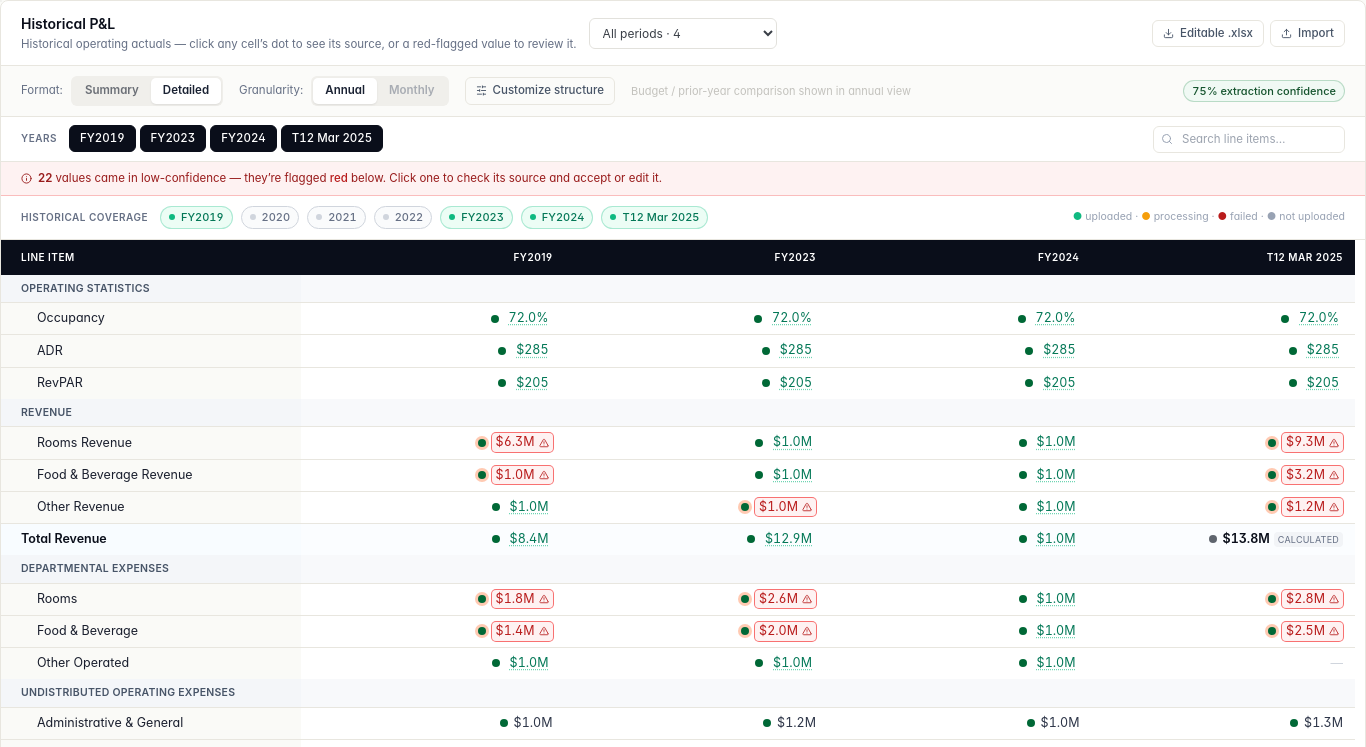
Scenario: Historicals — reordering a sourced row keeps its lineage › Reset layout restores the canonical order and drops the added line
Click the button "Customize structure".
click(540, 91)  # box [465, 77, 615, 105]
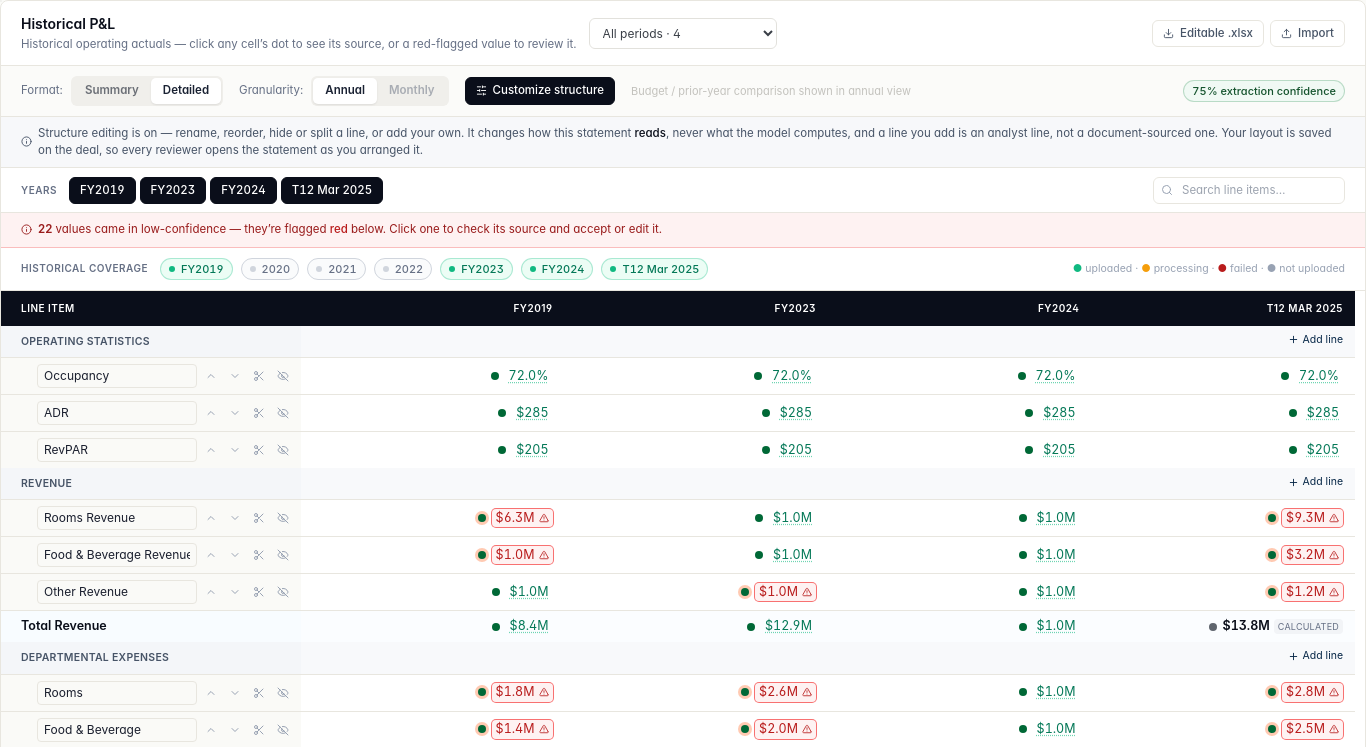
Click the 1st button named "Move down".
click(235, 376)  # box [225, 366, 245, 386]
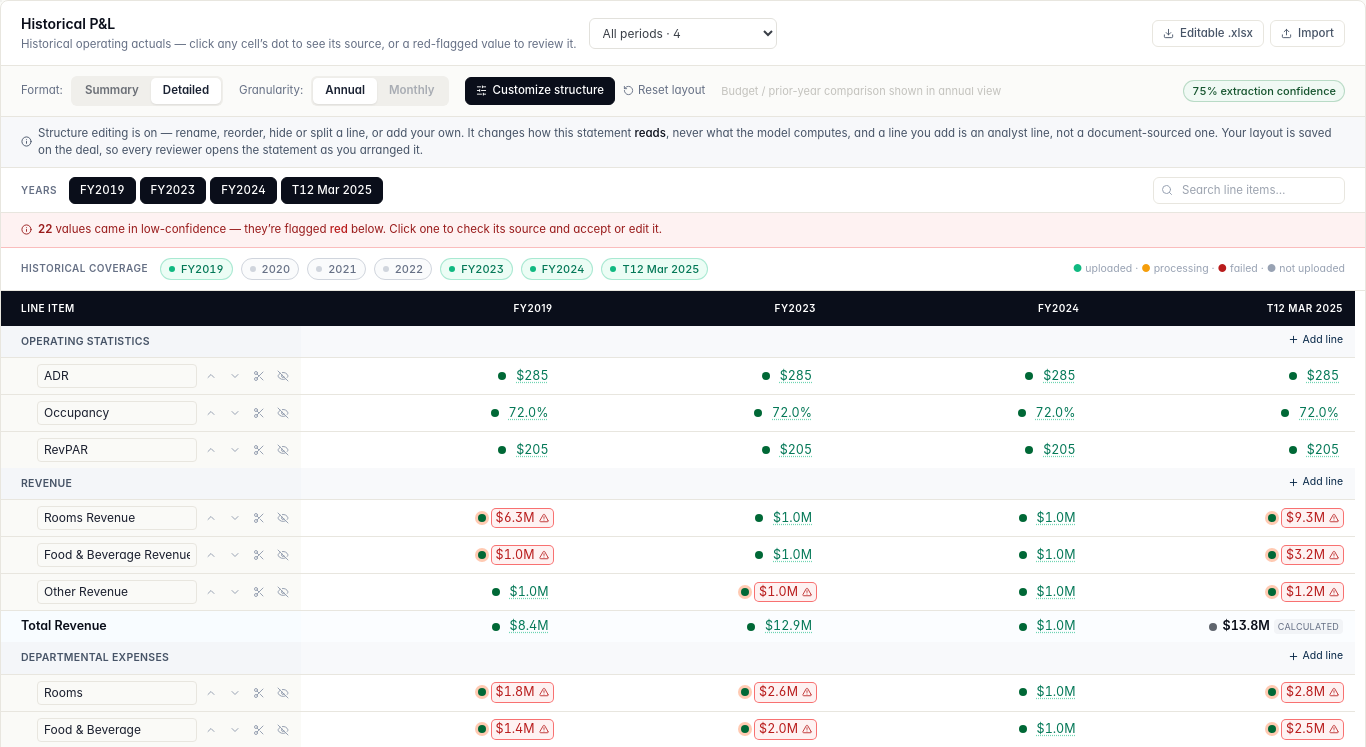
Click the button "Add line" in the row of "Operating Statistics".
click(1315, 340)  # box [1288, 332, 1343, 348]
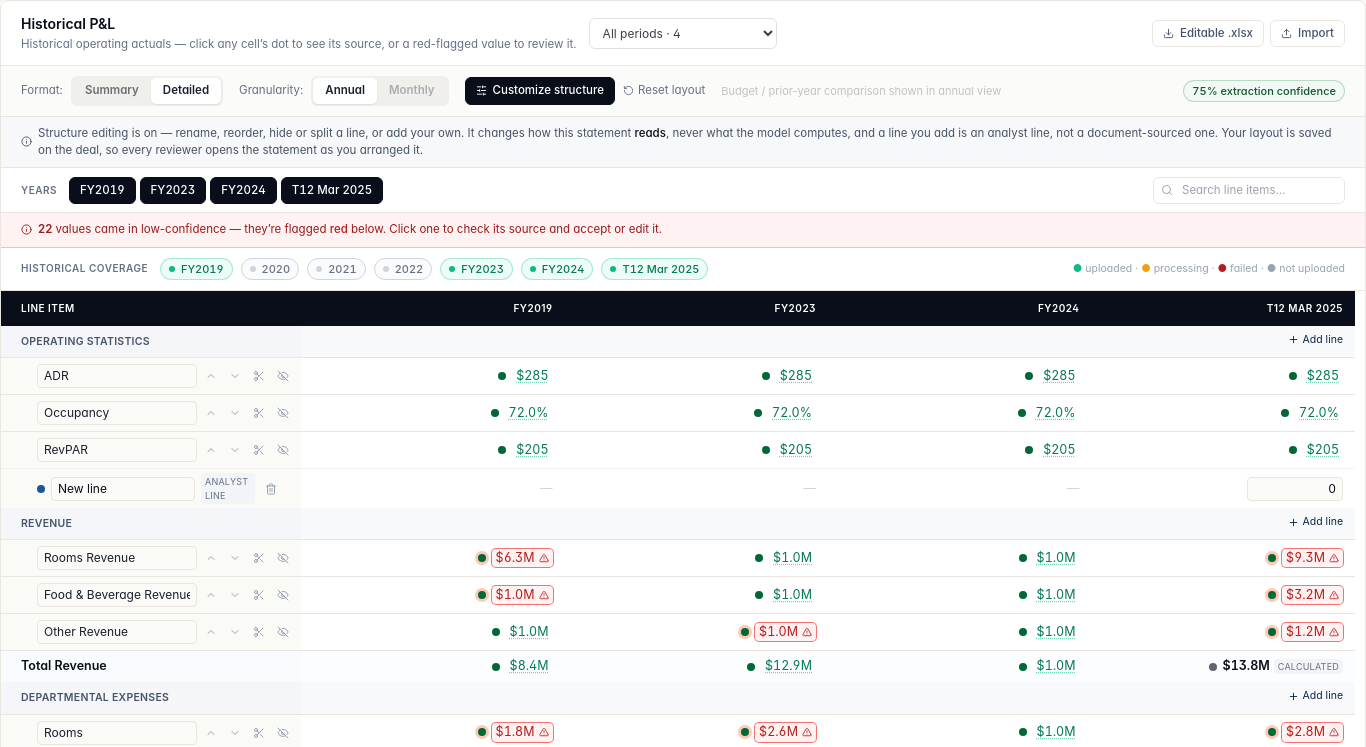
Now the 4th field showing "New line" is shown, box [51, 477, 195, 501]
Click the button "Reset layout".
click(664, 91)  # box [623, 82, 705, 100]
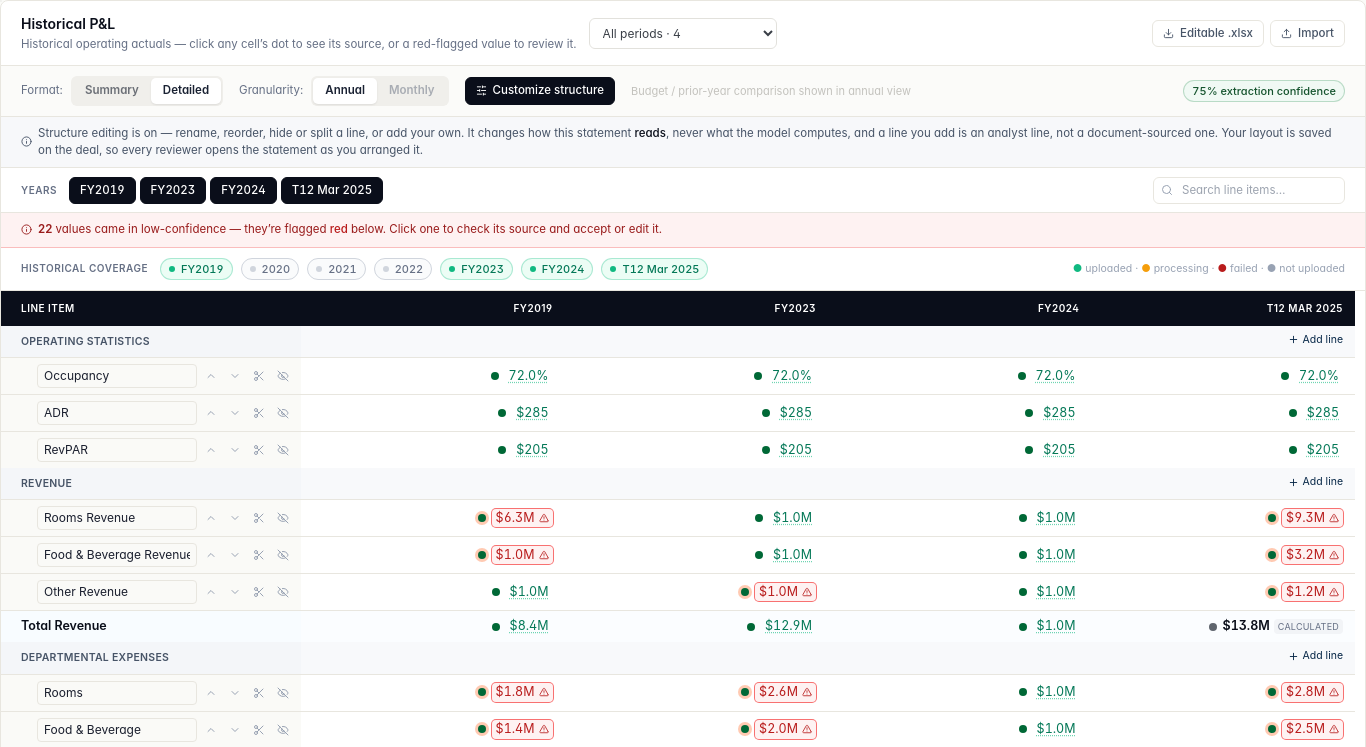
Expected: the field showing "New line" is not shown
Now the 1st field showing "Occupancy" is shown, box [37, 364, 197, 388]
